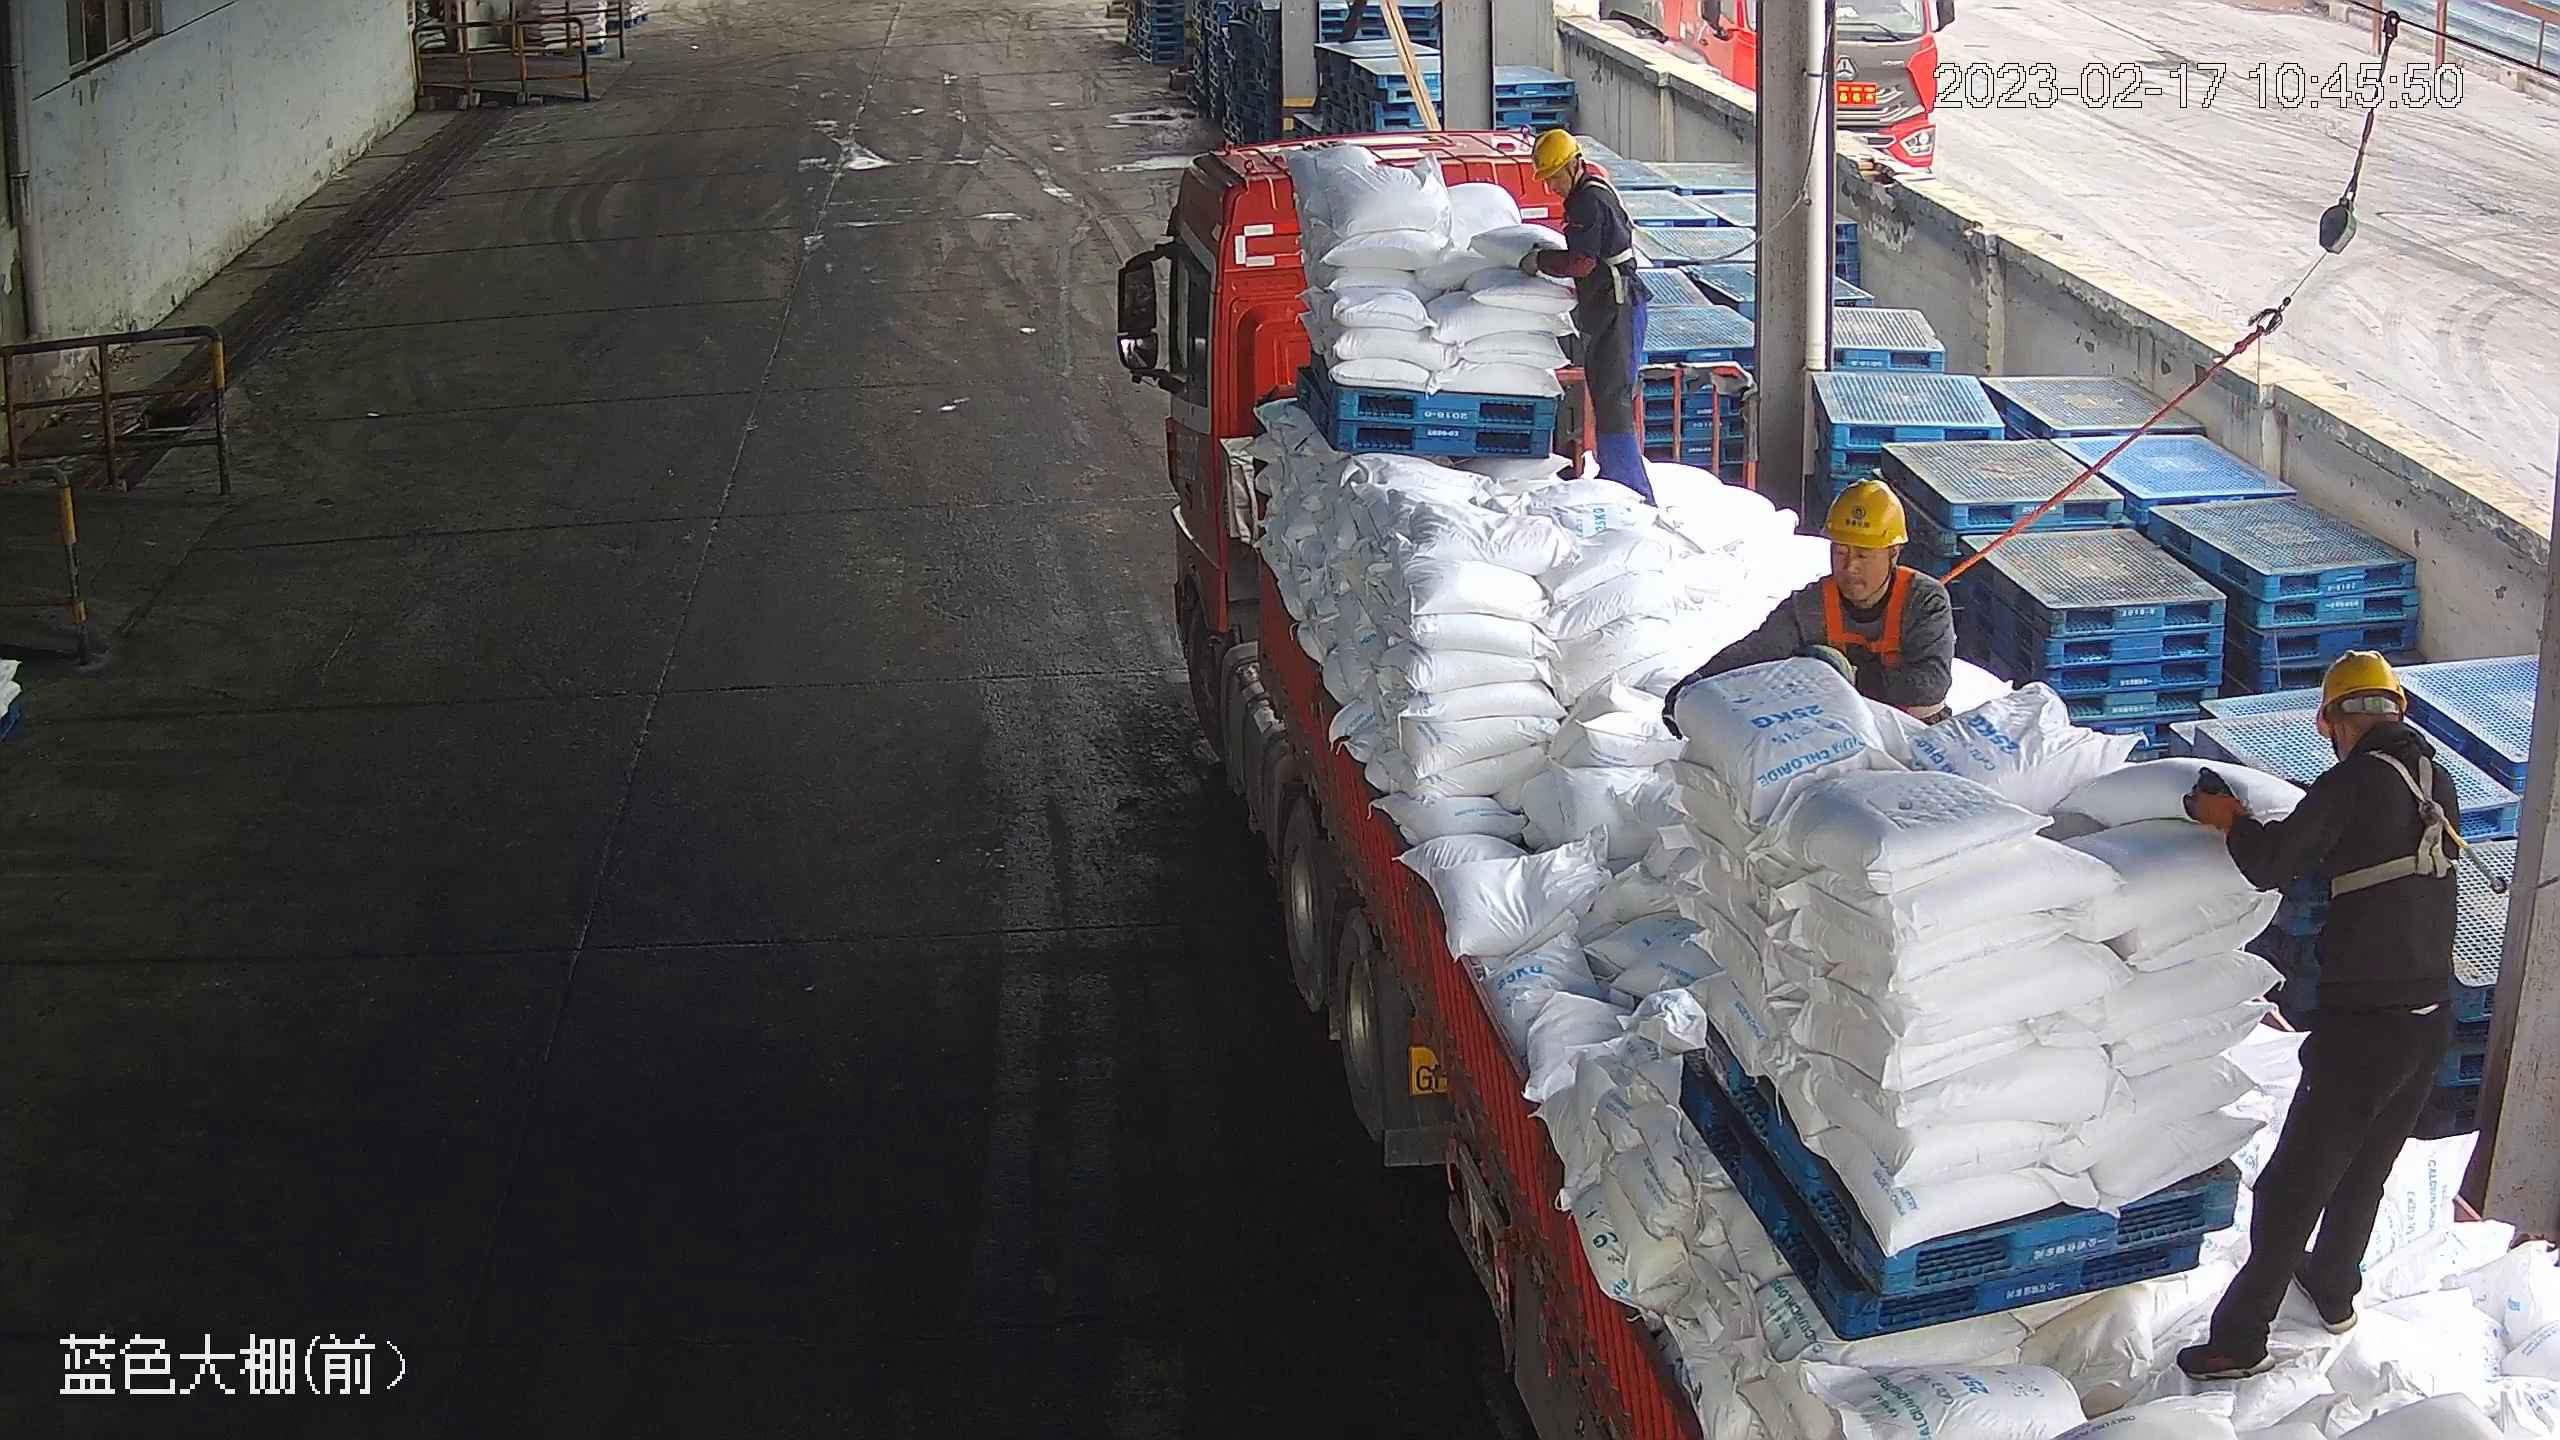belt: (2318, 754, 2488, 898), (1815, 562, 1947, 667), (1574, 174, 1666, 294)
head: (2234, 649, 2464, 867), (1796, 476, 1952, 659), (1523, 130, 1637, 278)
helmet: (1813, 476, 1915, 554), (2315, 654, 2403, 739), (1532, 125, 1588, 184)
people: (2171, 652, 2464, 1386), (1522, 130, 1661, 506)
truck: (1113, 120, 2560, 1440)
